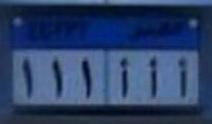1: (49, 54, 65, 100), (79, 58, 95, 101), (21, 57, 36, 102)
alif: (173, 56, 195, 98), (145, 55, 161, 100), (119, 57, 132, 100)
